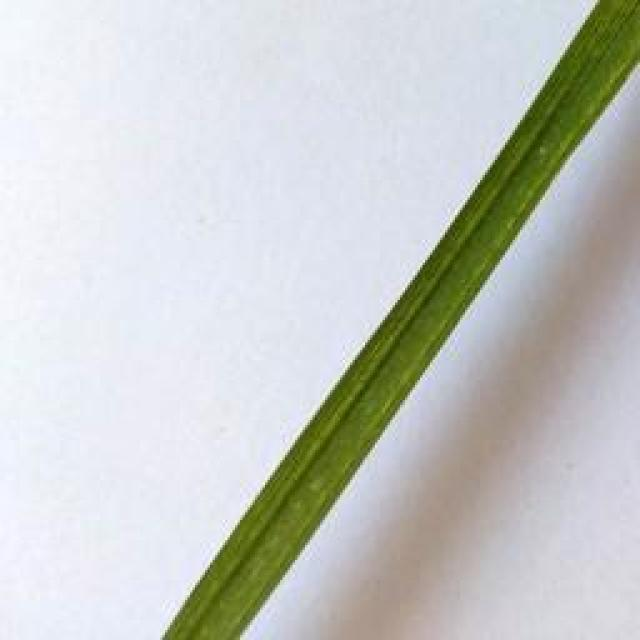Healthy-Plant: (160, 0, 640, 638)
